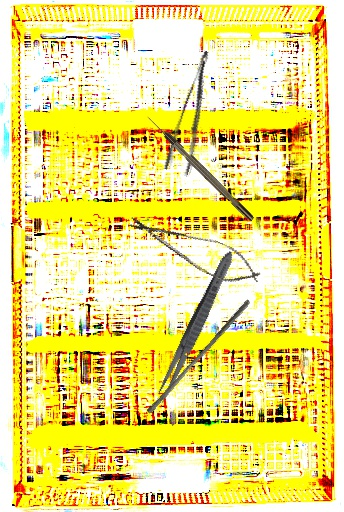Dressing Forceps: (152, 247, 239, 407), (161, 49, 230, 178)
Hook Surgical: (144, 112, 256, 224)
Micro Scissor: (120, 205, 269, 295)
Pusher: (145, 295, 252, 418)
